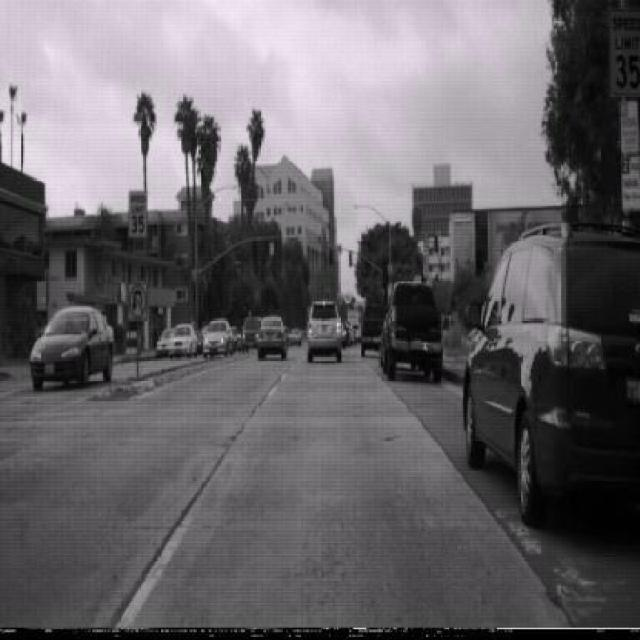speedLimit35: (128, 189, 148, 239)
